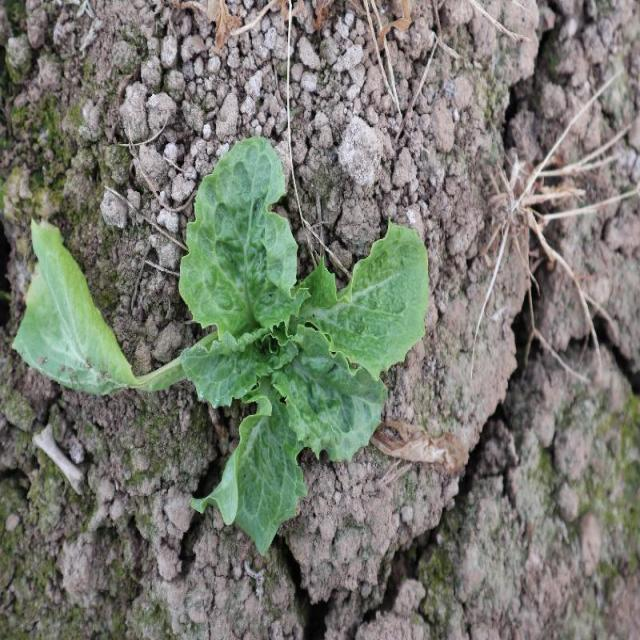crop: (180, 137, 431, 554)
